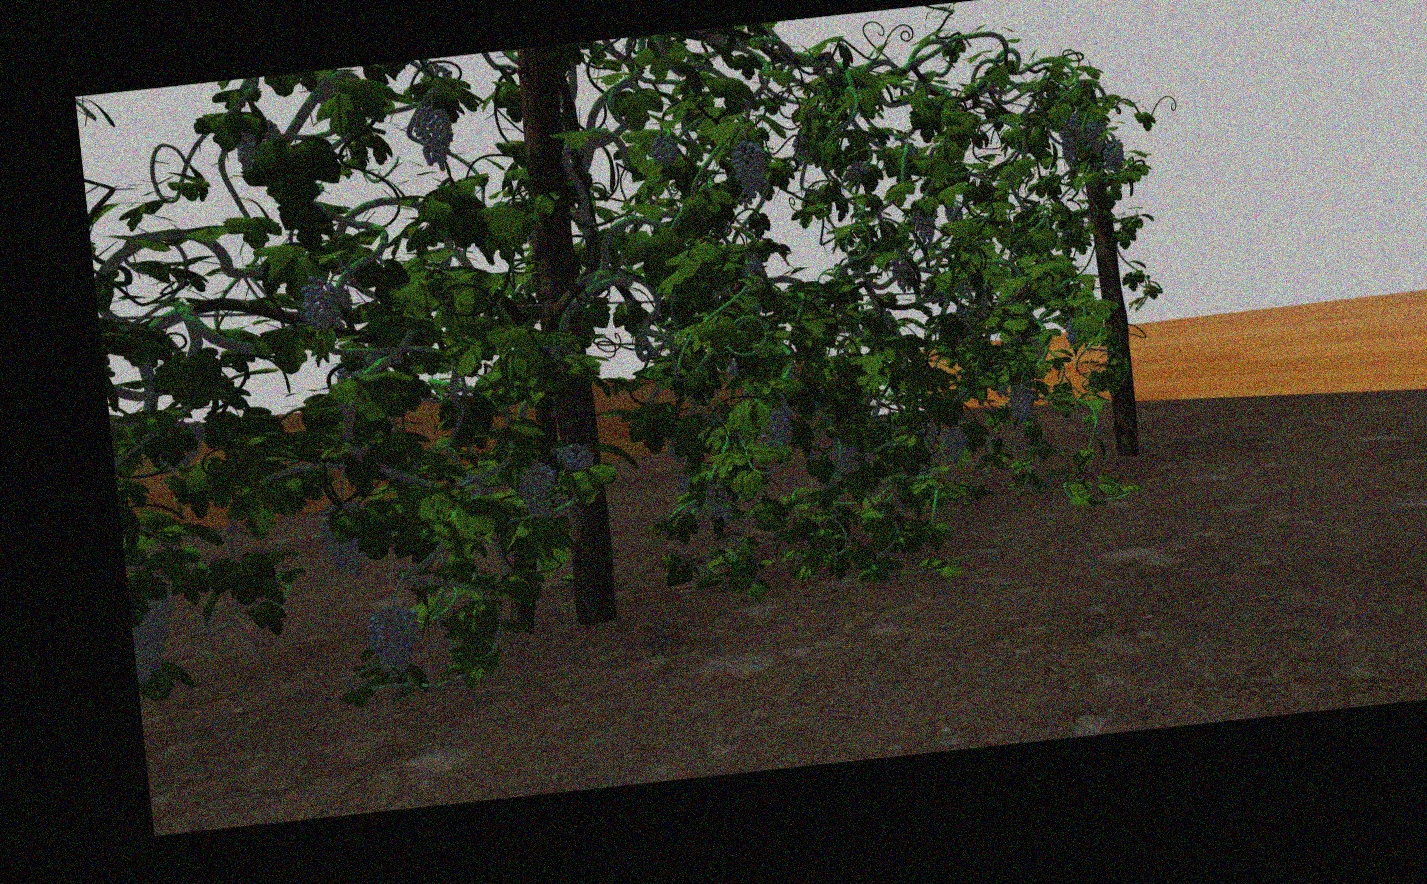grape: (134, 592, 177, 685), (368, 606, 422, 678), (320, 502, 370, 578), (301, 272, 354, 331), (414, 104, 455, 172), (733, 139, 772, 203), (519, 462, 557, 517), (761, 407, 794, 447), (557, 443, 594, 471), (913, 202, 940, 241), (1009, 384, 1035, 424), (943, 425, 969, 463), (892, 251, 916, 292), (708, 482, 733, 521), (650, 135, 678, 166), (832, 440, 858, 469), (1086, 119, 1108, 153), (1104, 139, 1125, 168), (1061, 137, 1081, 167), (1064, 317, 1081, 346), (922, 419, 939, 449), (846, 159, 869, 179), (943, 203, 964, 221)
